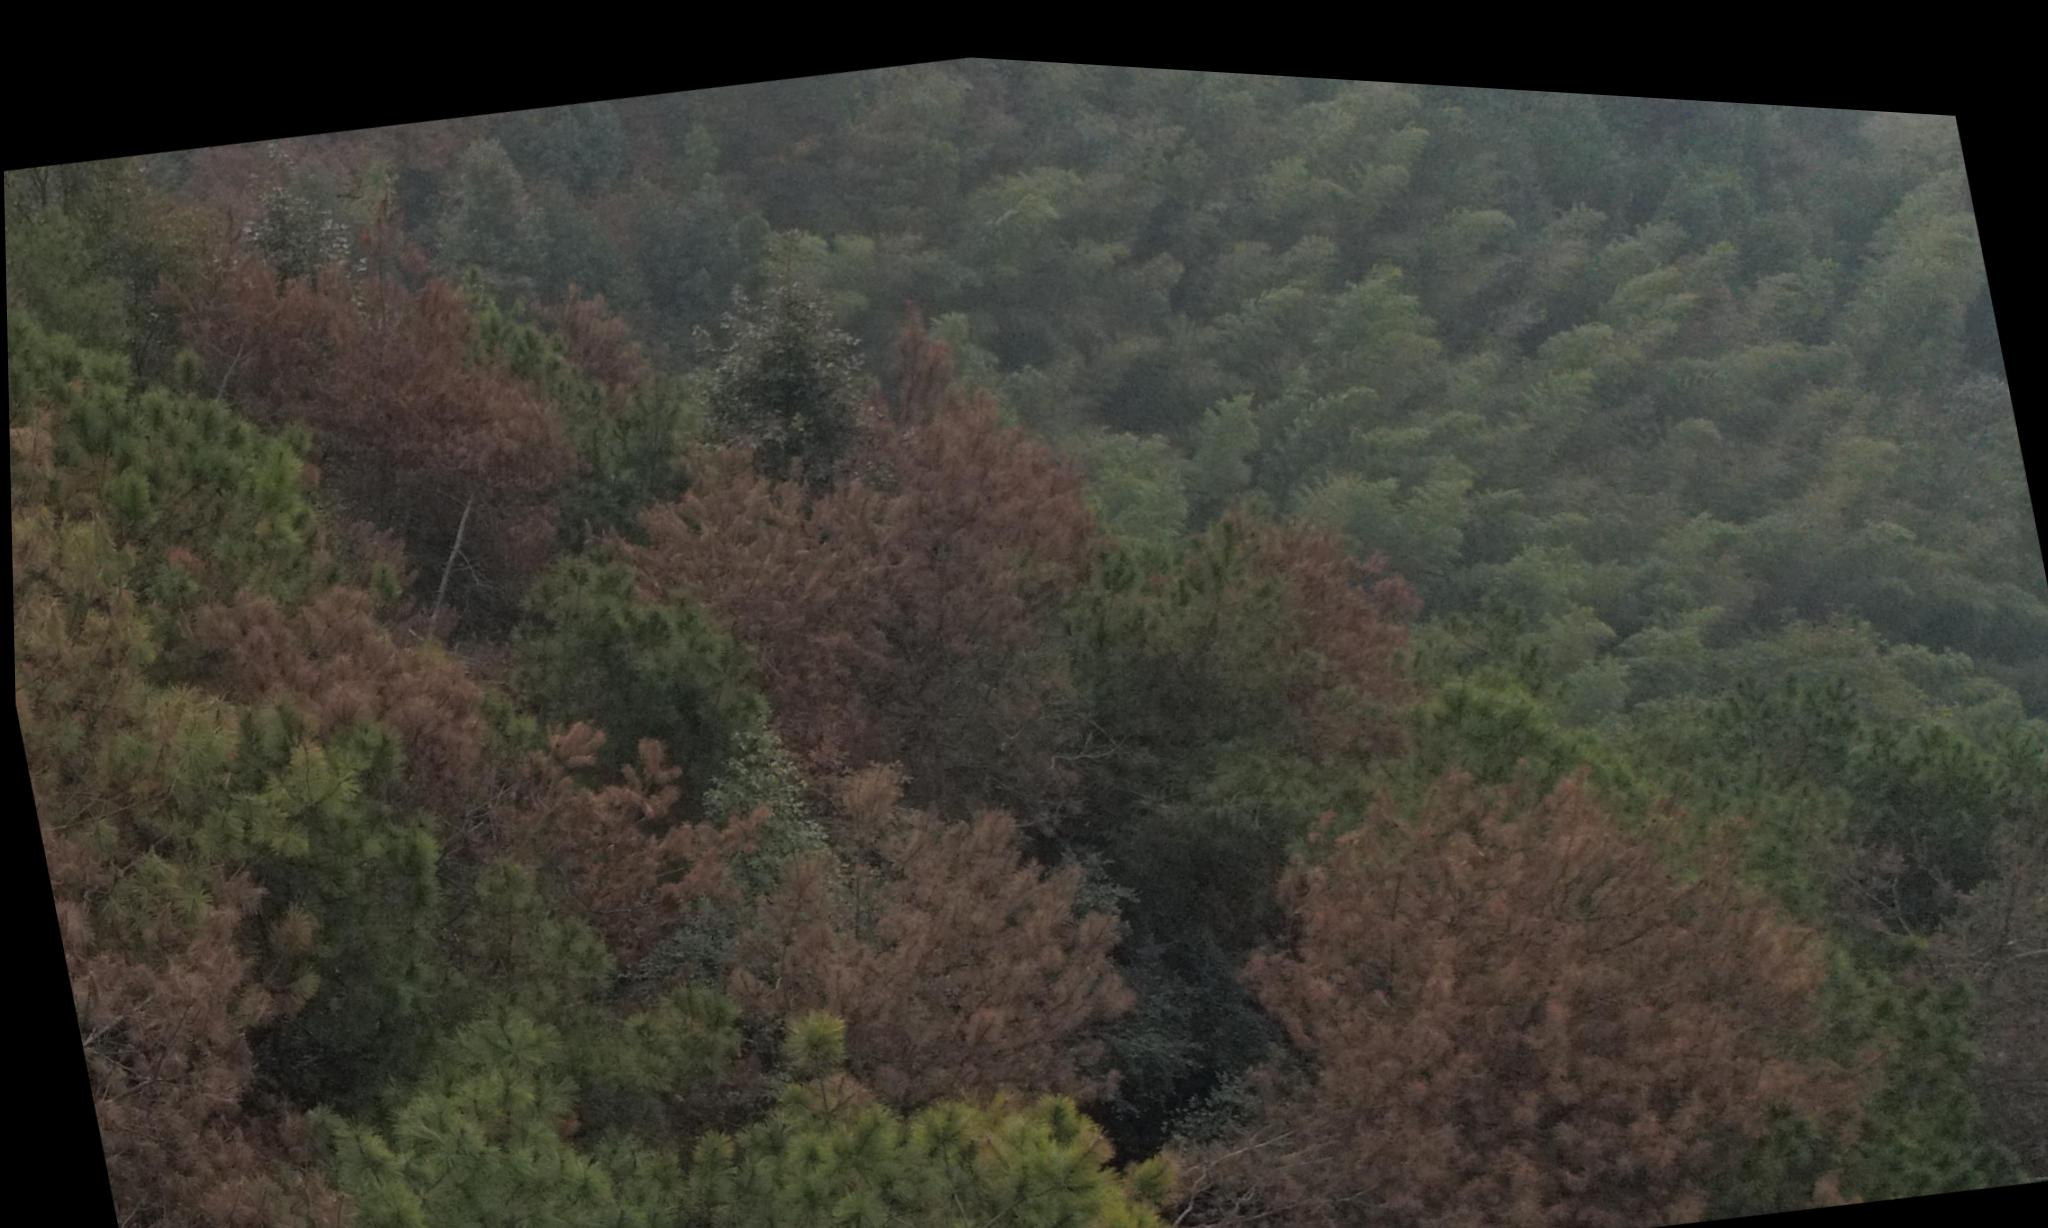heavy: (1076, 690, 1890, 1228), (513, 259, 1155, 788), (57, 146, 683, 645), (585, 727, 1196, 1213), (41, 808, 431, 1228), (316, 563, 681, 1010)
light: (1145, 447, 1494, 782)
